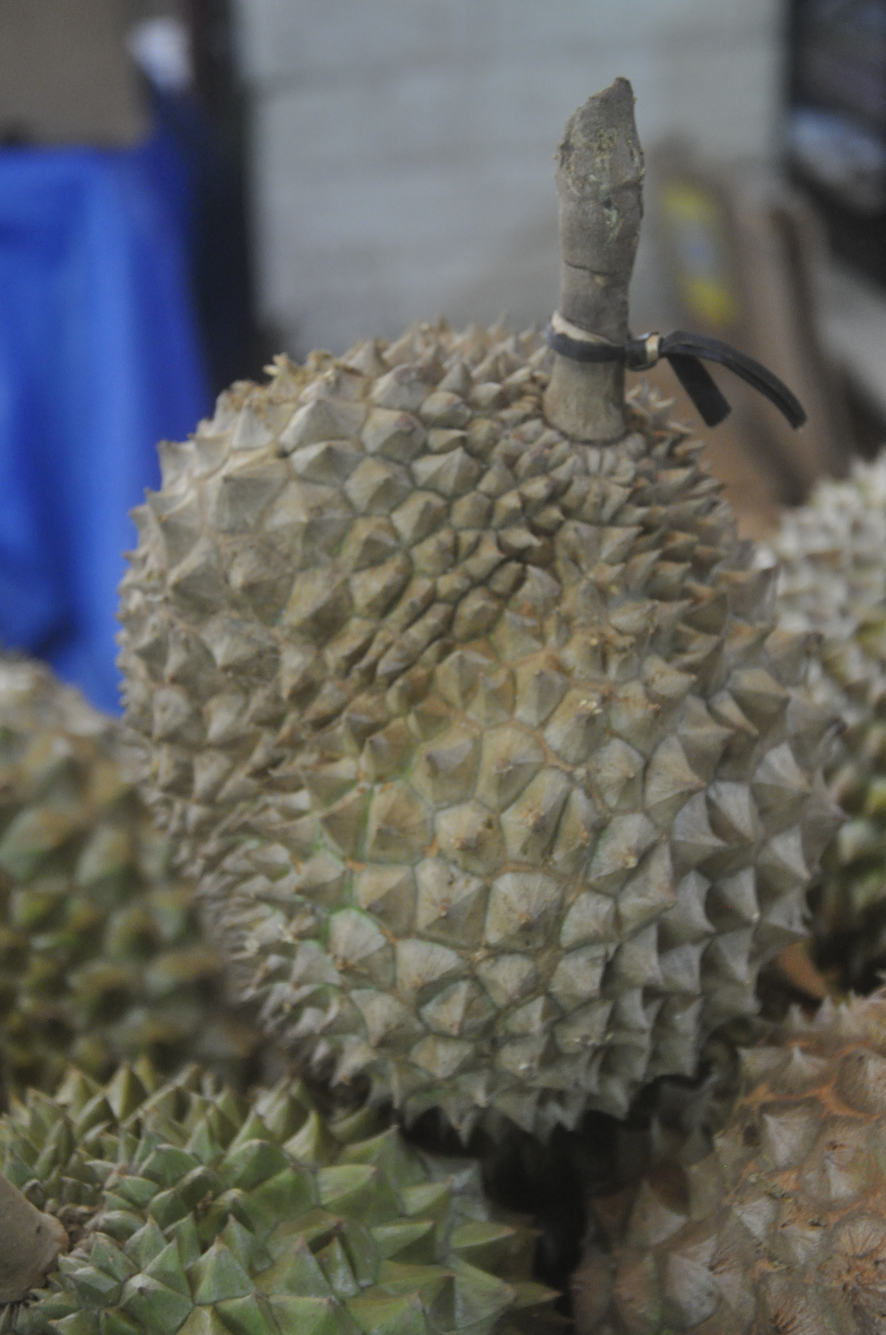mature: (96, 82, 837, 1161)
